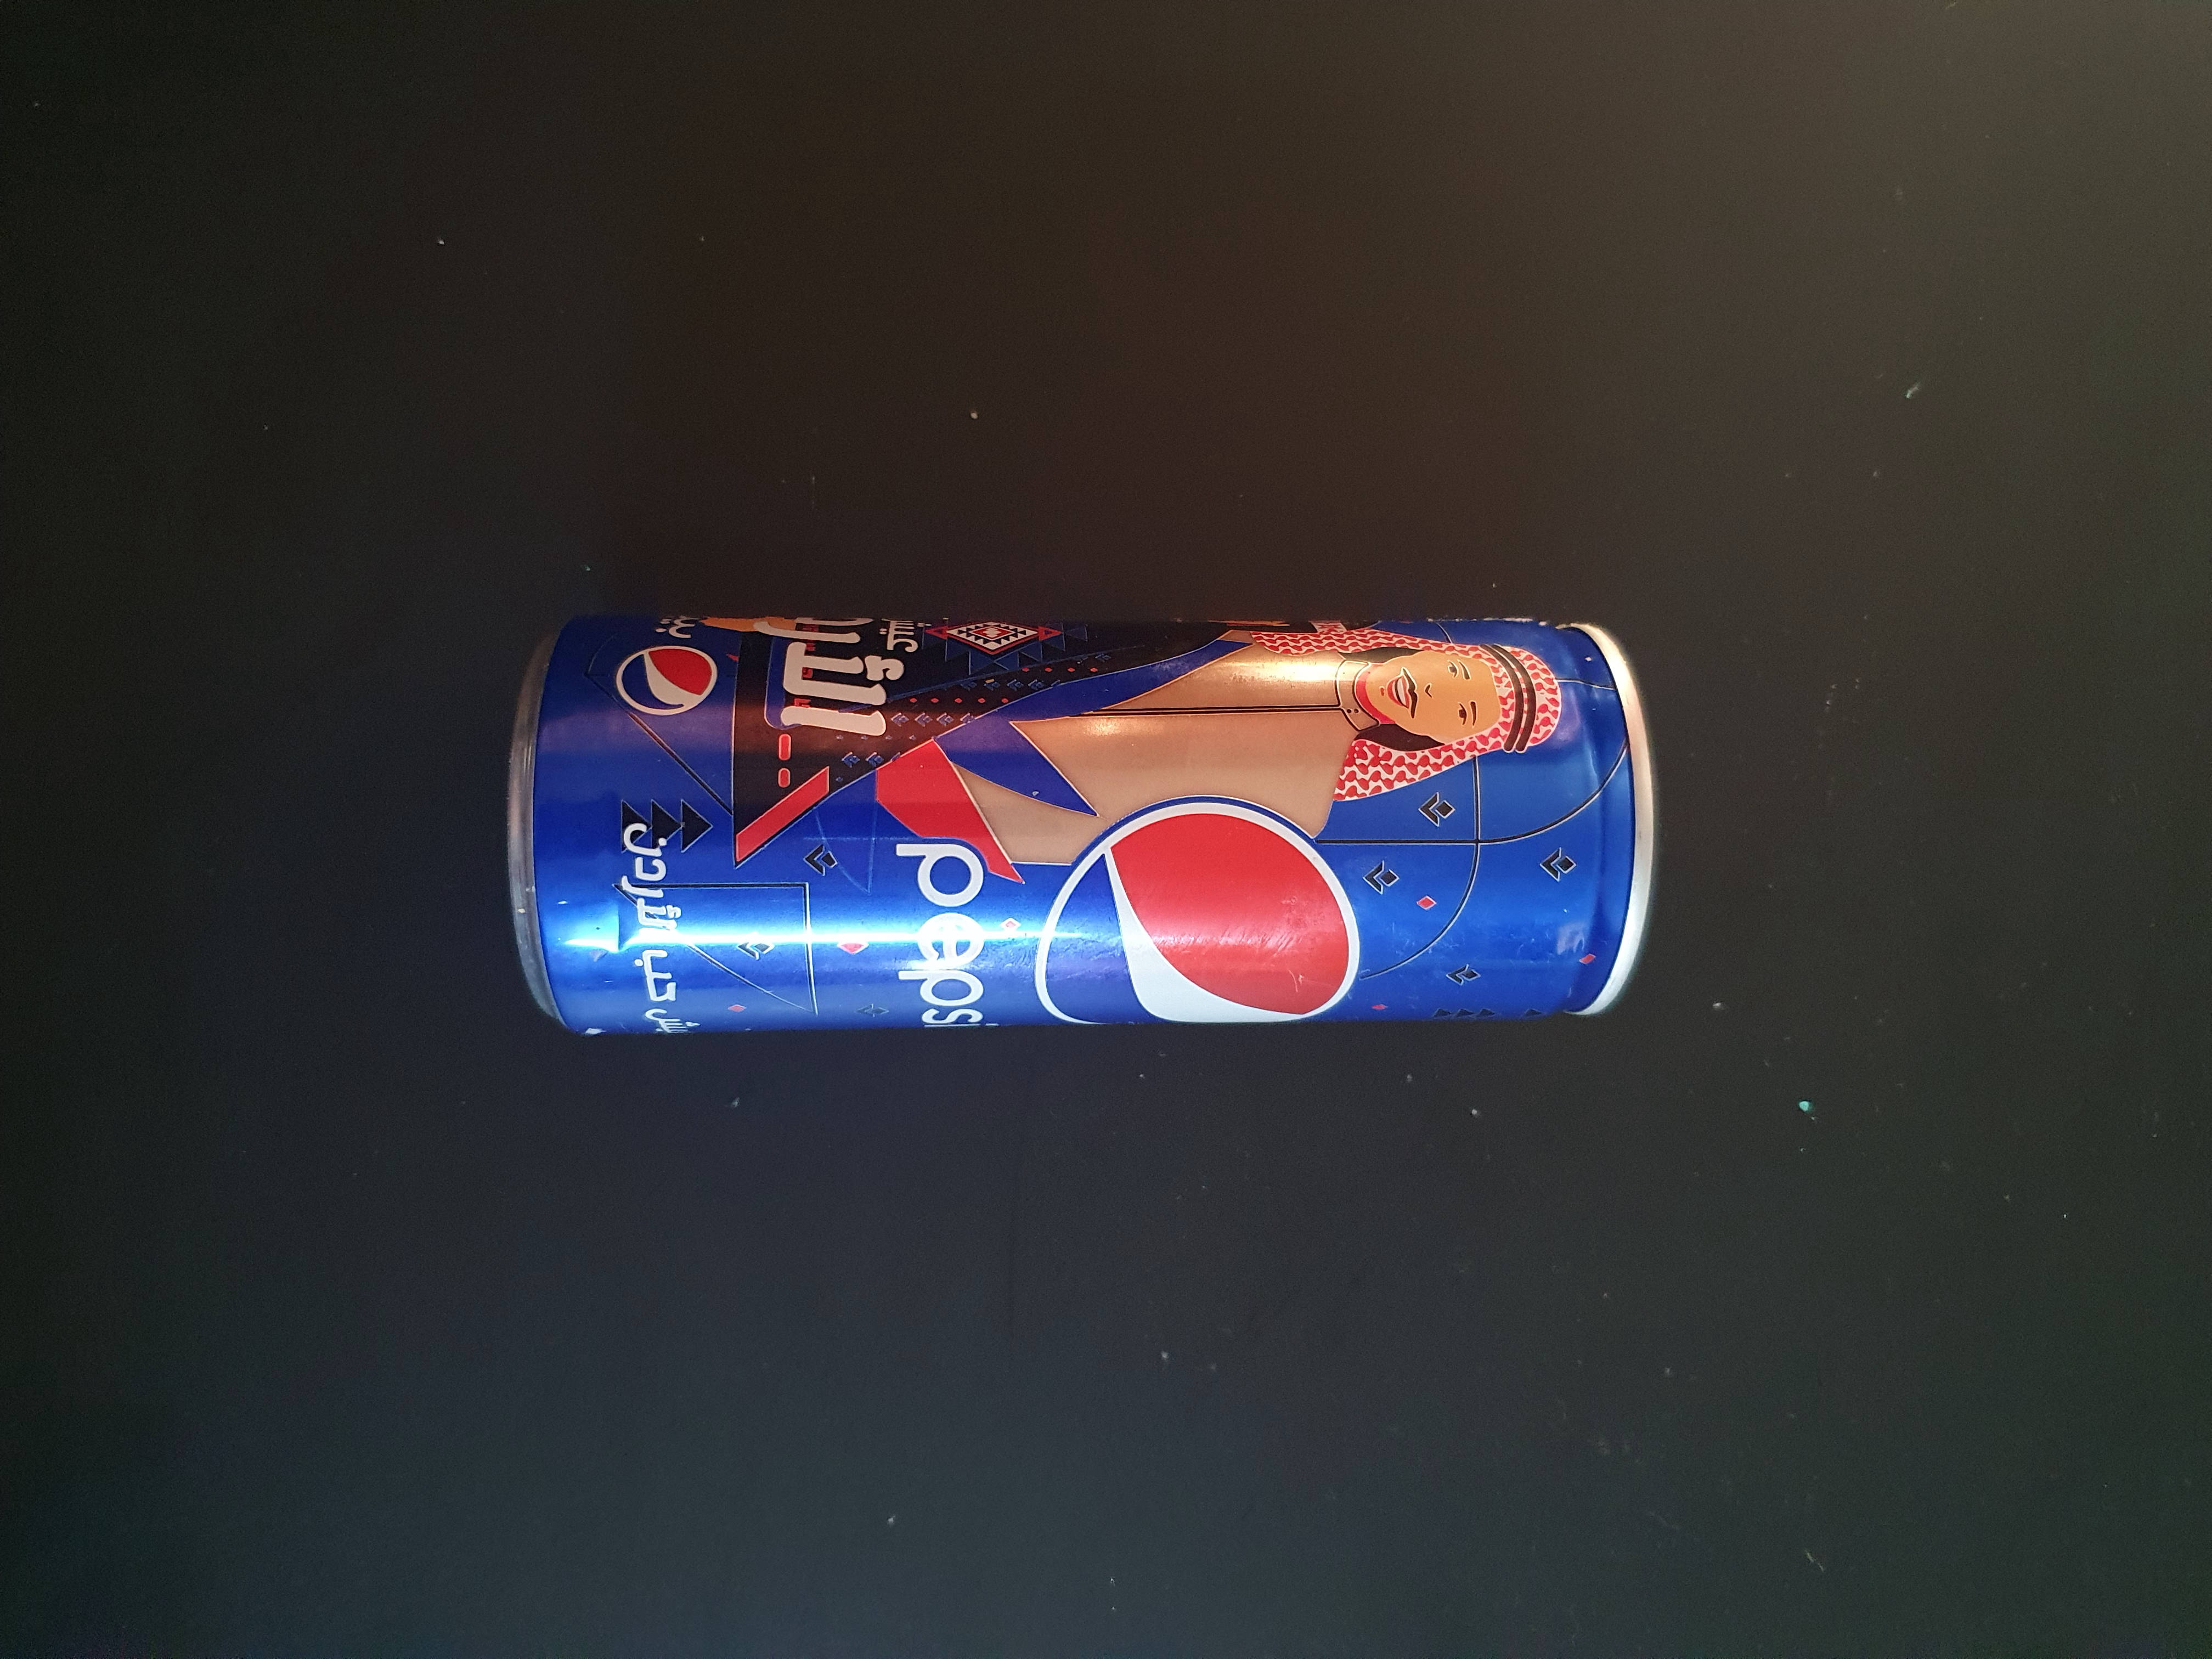metal: (442, 514, 1756, 1157)
